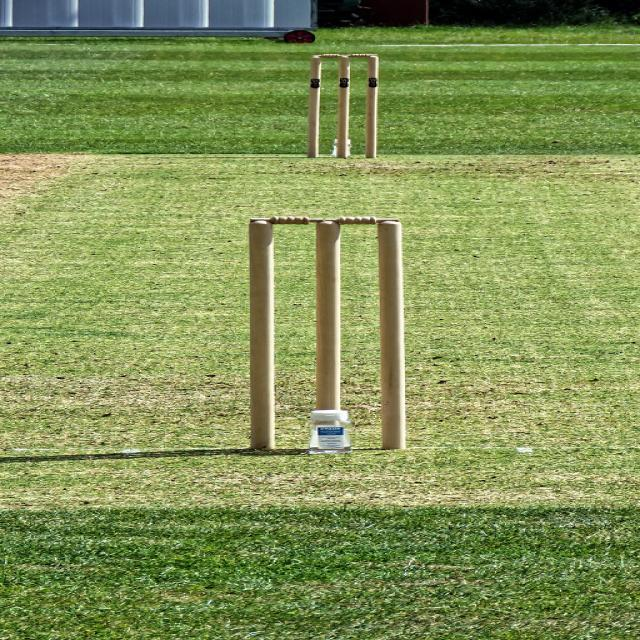stumps: (235, 204, 416, 458), (299, 46, 381, 160)
